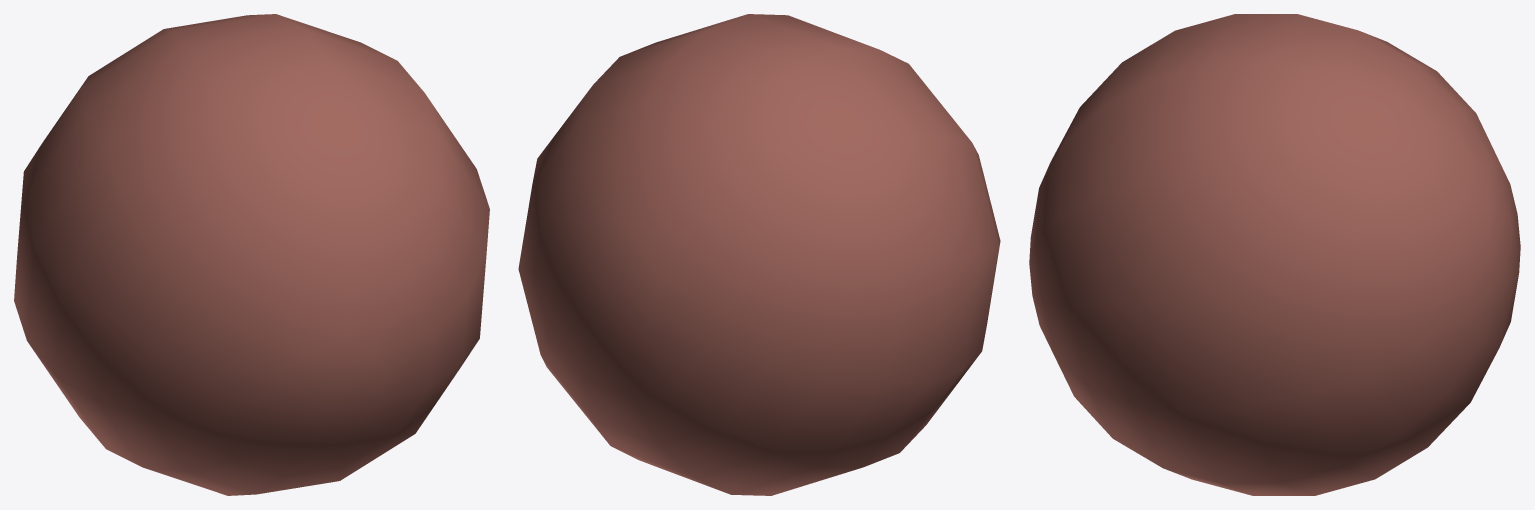
The model's file is mixamo_humanoid_joint_rightHandPinky3.fbx.
3 renders of one model, left to right at view 1: azimuth 30°, elevation 25°; view 2: azimuth 150°, elevation 25°; view 3: azimuth 270°, elevation 25°, orthographic.
Visible parts, largest first — view 1: joint_RightHandPinky3; view 2: joint_RightHandPinky3; view 3: joint_RightHandPinky3.
Boxes of the visible parts, <box> form: joint_RightHandPinky3: <box>14,14,489,495</box>; joint_RightHandPinky3: <box>518,14,1000,495</box>; joint_RightHandPinky3: <box>1029,14,1520,495</box>.
Bounding box in the file's own units: 1.42 × 1.41 × 1.45.
